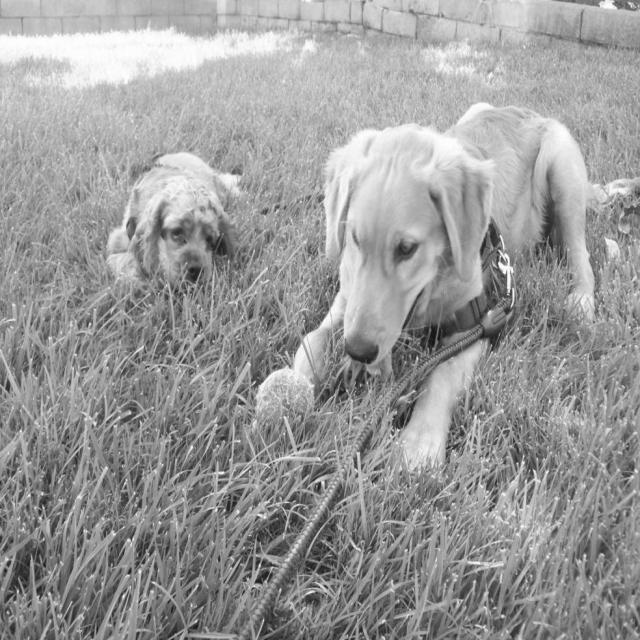laying down: (288, 99, 639, 481), (104, 139, 248, 291)
